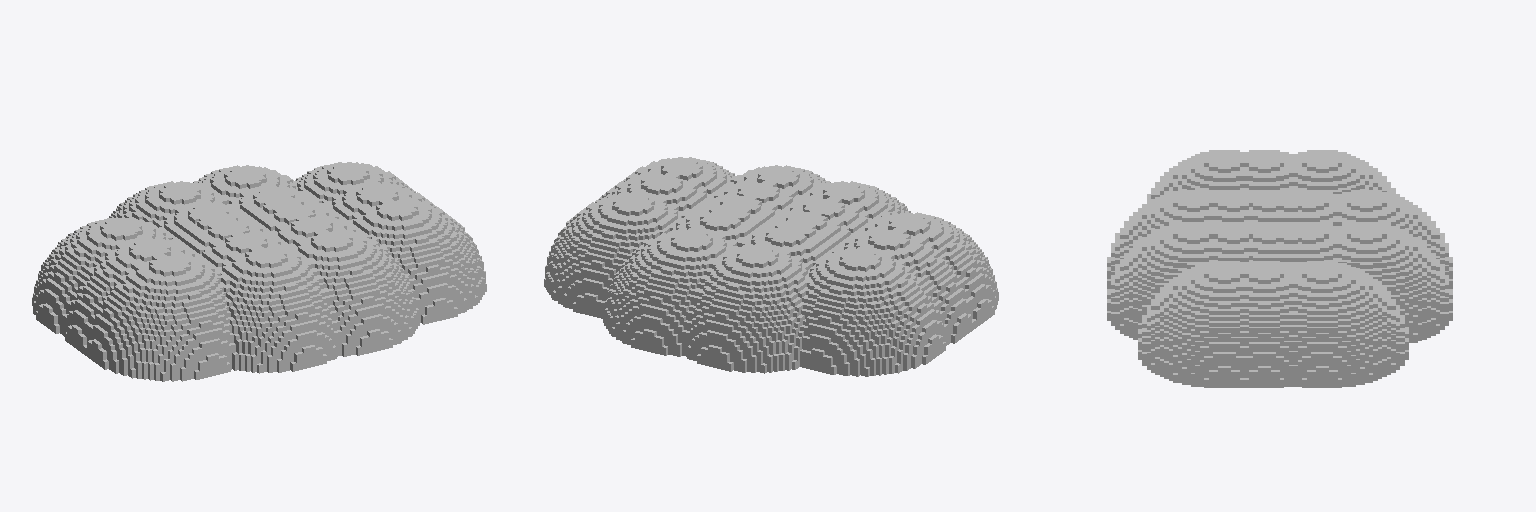
The model's file is ArrozSuelto.obj.
3 views of the same model, side by side, from view 1: azimuth 30°, elevation 25°; view 2: azimuth 150°, elevation 25°; view 3: azimuth 270°, elevation 25° (orthographic).
Parts seen in each view (by area): view 1: object 1; view 2: object 1; view 3: object 1.
Part boxes in pixels (bbox=[...]): object 1: bbox=[32, 162, 486, 381]; object 1: bbox=[544, 157, 998, 376]; object 1: bbox=[1107, 150, 1452, 387].
Size of the model in its own units: 9.8 by 2 by 7.8.